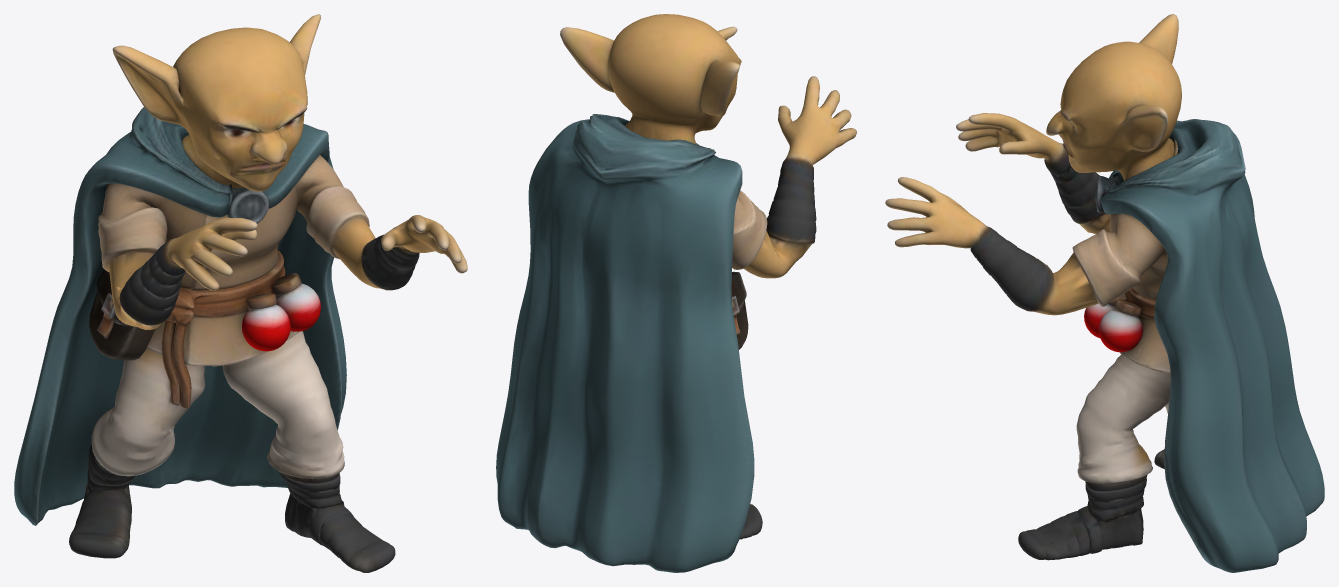
File: Goblin Wizard.glb
3 renders of one model, left to right at view 1: azimuth 30°, elevation 25°; view 2: azimuth 150°, elevation 25°; view 3: azimuth 270°, elevation 25°, orthographic. The views are drawn at different scales.
Parts seen in each view (by area): view 1: Body.001; view 2: Body.001; view 3: Body.001.
Part boxes in pixels (x1,y1,x2,y2): Body.001: [14, 14, 467, 572]; Body.001: [496, 14, 856, 572]; Body.001: [885, 14, 1324, 572].
Bounding box in the file's own units: 0.2992 × 0.5092 × 0.4285.
1 material, 1 textured.
